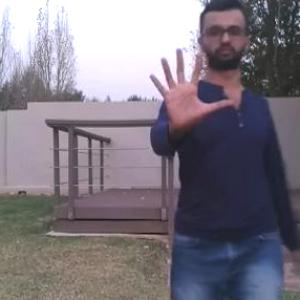follow_hand: (146, 42, 238, 135)
